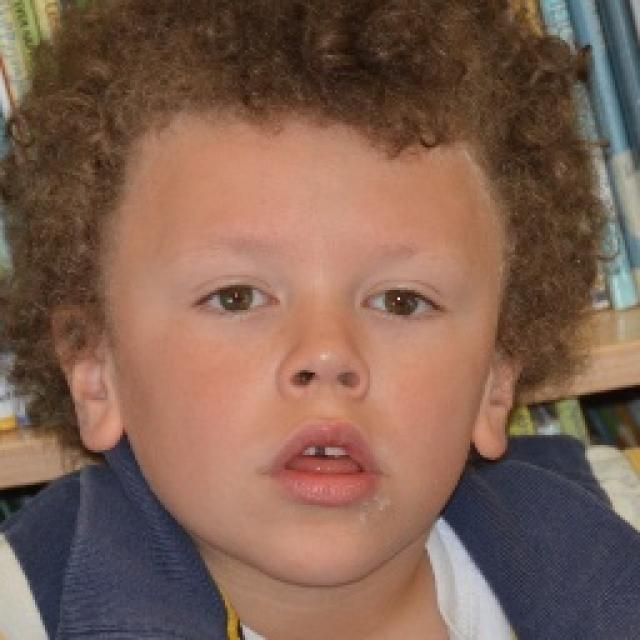earlobe: (81, 398, 124, 453), (470, 420, 512, 462)
eye: (192, 275, 283, 319), (359, 280, 445, 324)
nose: (282, 377, 367, 416)
wholeear: (39, 300, 125, 453), (469, 300, 530, 461)
